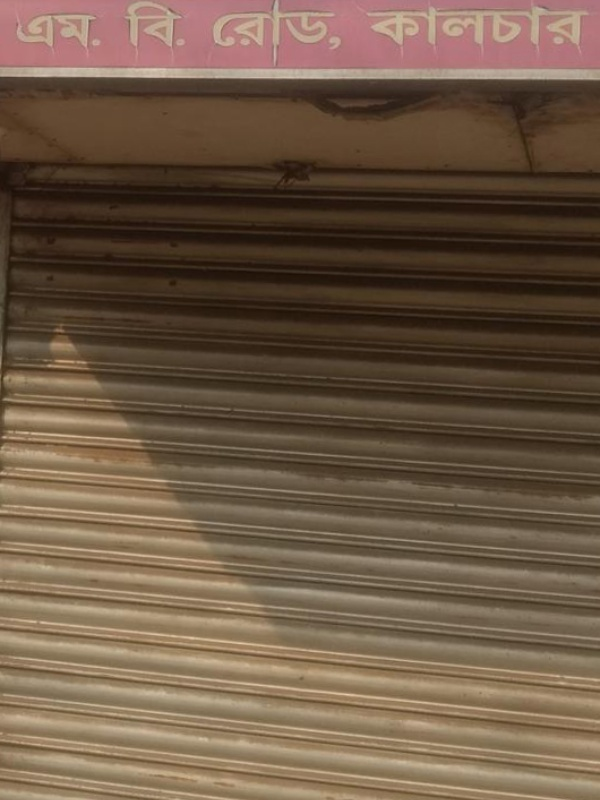text: (225, 1, 240, 67), (241, 1, 256, 67), (257, 1, 272, 67), (273, 1, 288, 67), (289, 1, 304, 67), (305, 1, 320, 67), (321, 1, 336, 67), (212, 1, 224, 67), (129, 1, 144, 48), (145, 1, 160, 48), (161, 1, 176, 48), (369, 4, 384, 50), (385, 4, 400, 50), (401, 4, 416, 50), (417, 4, 432, 50), (433, 4, 448, 50), (449, 4, 464, 50), (465, 4, 480, 50), (481, 4, 496, 50), (497, 4, 512, 50), (513, 4, 528, 50), (529, 4, 544, 50), (545, 4, 560, 50), (561, 4, 576, 50), (17, 13, 32, 51), (33, 13, 48, 51), (49, 13, 64, 51), (65, 13, 80, 51), (81, 13, 96, 51), (577, 4, 588, 50), (177, 1, 186, 48), (337, 1, 342, 67), (97, 13, 104, 51), (123, 1, 128, 48), (366, 4, 368, 50), (14, 13, 16, 51)
